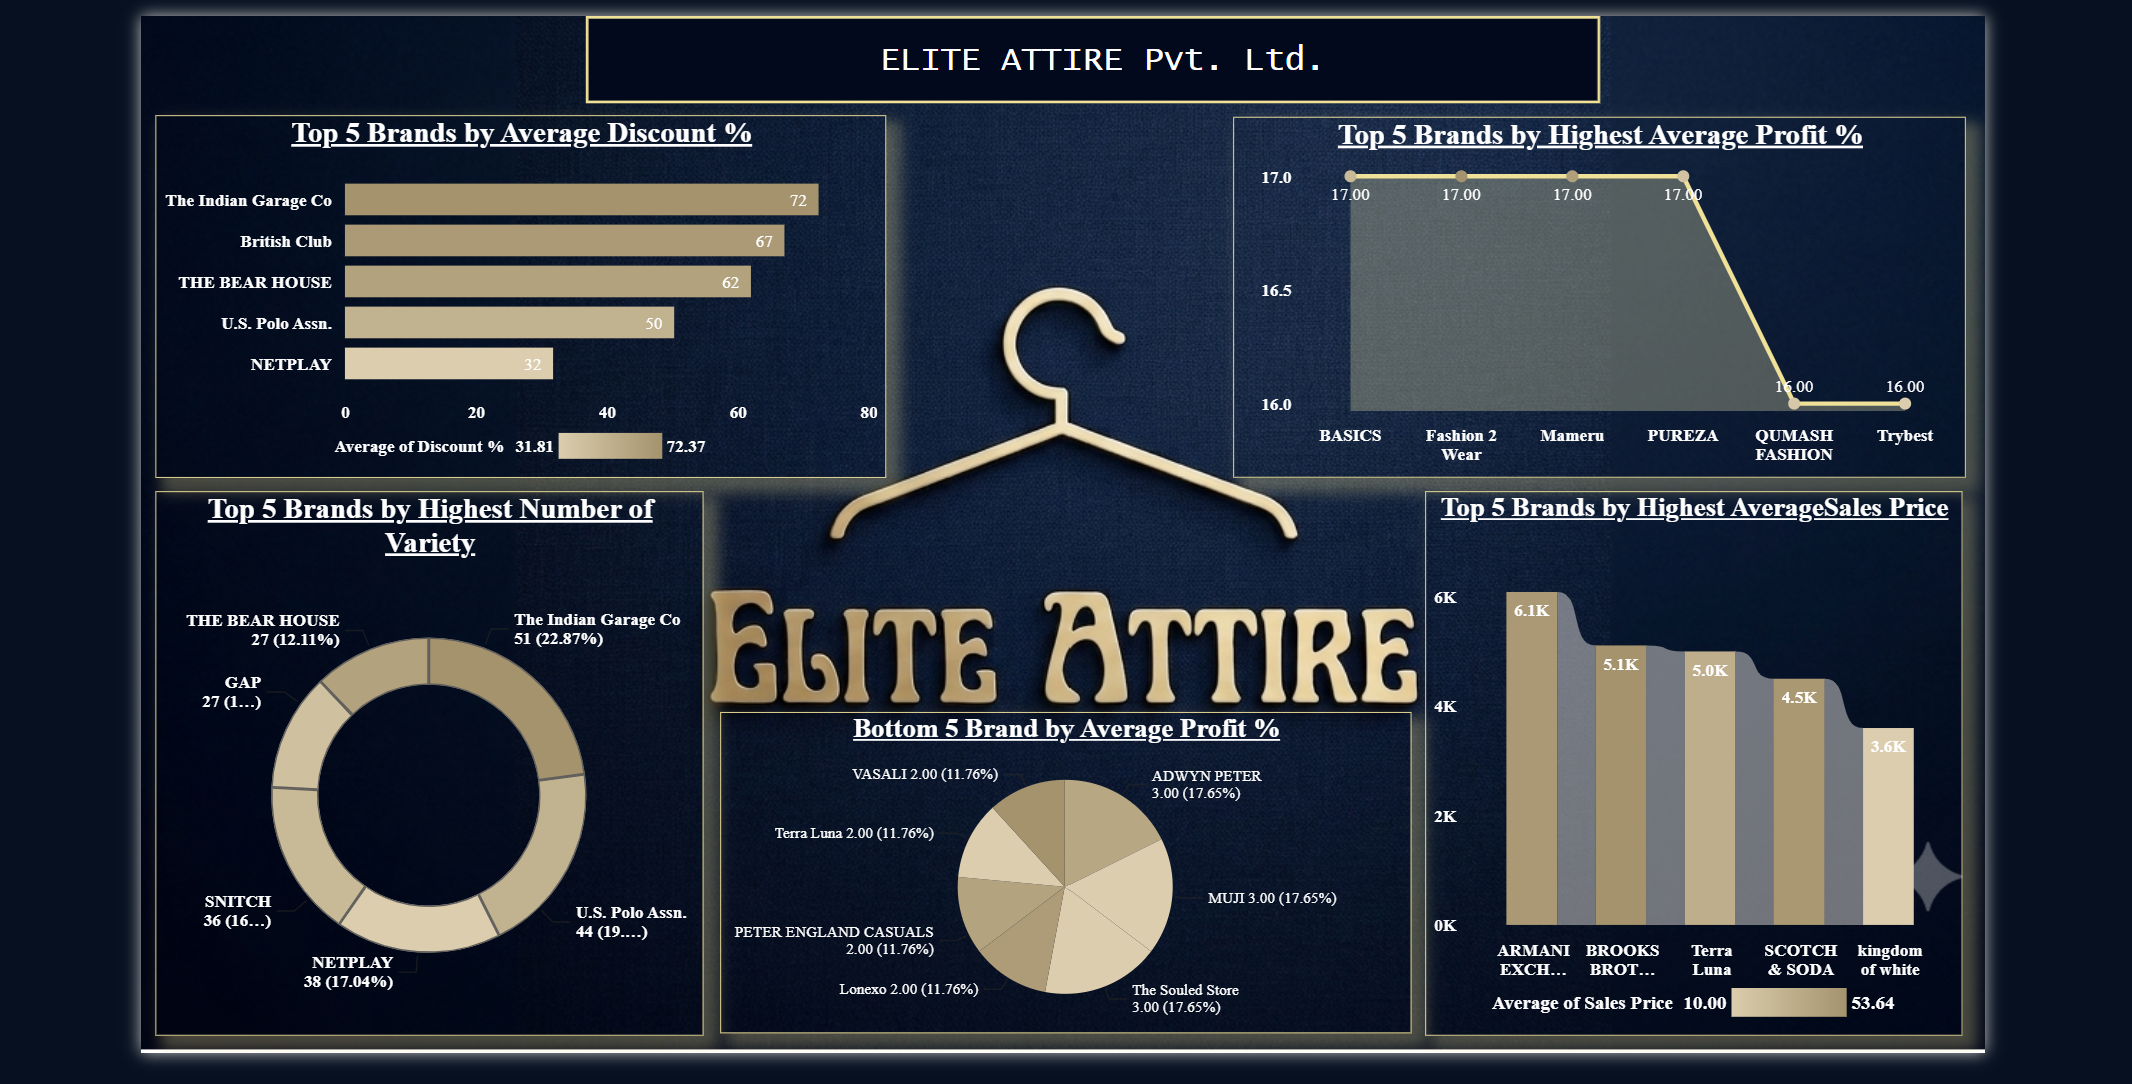

The page's visual inventory and layout, read from the dashboard file:
{"tool":"powerbi","page":{"name":"Details","canvas":[1280,720],"ordinal":1},"visuals":[{"type":"ScrollingTextVisual1448795304508","fields":{"Category":["Men+Tshirt.Brand"]},"box":[308.7,0,703.9,60.5],"z":0},{"type":"barChart","title":"Top 5 Brands by Average Discount %","fields":{"Category":["Men+Tshirt.Brand"],"Y":["Avg(Men+Tshirt.Discount %)"]},"box":[9.9,69.2,507.6,251.9],"z":1000},{"type":"donutChart","title":"Top 5 Brands by Highest Number of Variety","fields":{"Category":["Men+Tshirt.Brand"],"Y":["Count(Men+Tshirt.Title)"]},"box":[9.9,329.7,380.4,377.9],"z":2000},{"type":"columnChart","title":"Top 5 Brands by Highest AverageSales Price ","fields":{"Category":["Men+Tshirt.Brand"],"Y":["Avg(Men+Tshirt.Sales Price)"]},"box":[891.7,329.7,373,377.9],"z":3000},{"type":"areaChart","title":"Top 5 Brands by Highest Average Profit %","fields":{"Category":["Men+Tshirt.Brand"],"Y":["Avg(Men+Tshirt.Profit %)"]},"box":[758.3,70.4,508.8,250.7],"z":4000},{"type":"pieChart","title":"Bottom 5 Brand by Average Profit %","fields":{"Category":["Men+Tshirt.Brand"],"Y":["Avg(Men+Tshirt.Profit %)"]},"box":[401.9,483.8,479.2,222.9],"z":5000}]}

Visuals, with their boxes on the page's 1280x720 design canvas (x1, y1, x2, y2). These are canvas units, not pixel positions in the 2132x1084 screenshot, which may show the page scaled, cropped or inside an application window:
ScrollingTextVisual1448795304508 - Men+Tshirt.Brand: <region>309, 0, 1013, 60</region>
"Top 5 Brands by Average Discount %" barChart: <region>10, 69, 518, 321</region>
"Top 5 Brands by Highest Number of Variety" donutChart: <region>10, 330, 390, 708</region>
"Top 5 Brands by Highest AverageSales Price " columnChart: <region>892, 330, 1265, 708</region>
"Top 5 Brands by Highest Average Profit %" areaChart: <region>758, 70, 1267, 321</region>
"Bottom 5 Brand by Average Profit %" pieChart: <region>402, 484, 881, 707</region>
